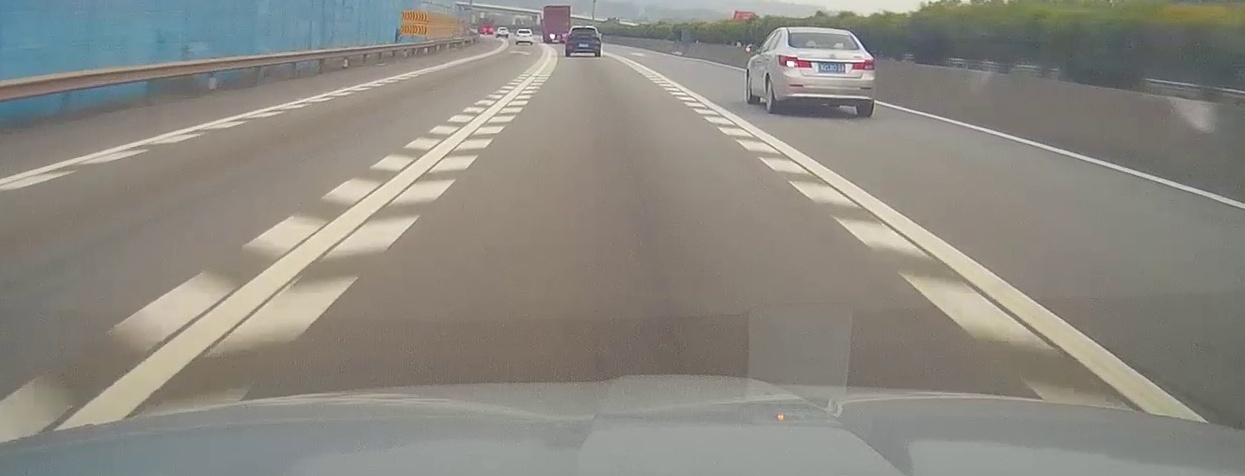L_light: (778, 54, 812, 68), (566, 37, 573, 40)
R_light: (852, 58, 875, 70), (593, 36, 600, 40)
T_light: (812, 31, 825, 36), (580, 27, 586, 30)
day-left: (778, 26, 875, 117)
day-no: (565, 26, 601, 57)
